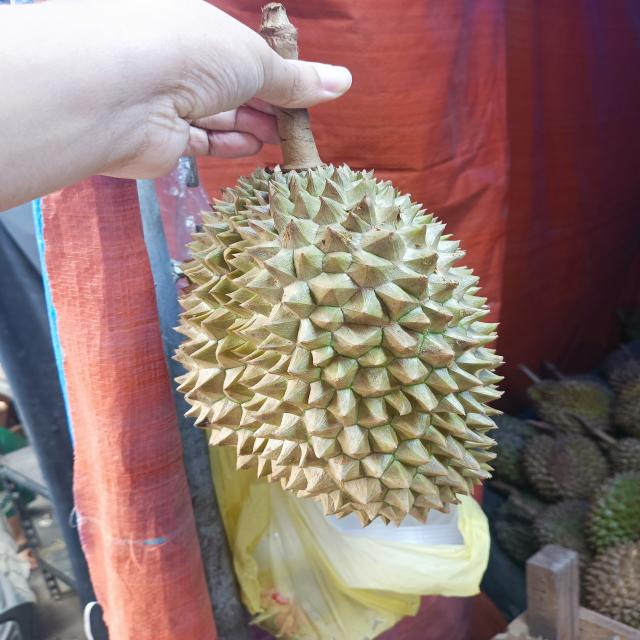mature: (175, 108, 503, 526)
